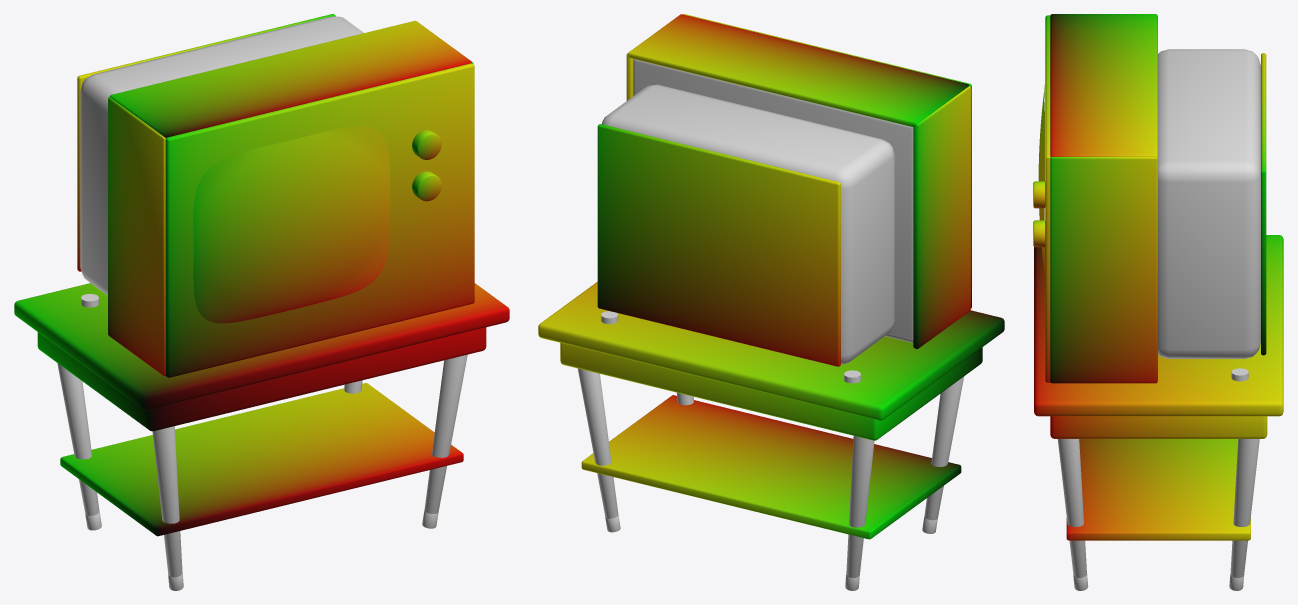
File: tv_painted.glb
3 renders of one model, left to right at view 1: azimuth 30°, elevation 25°; view 2: azimuth 150°, elevation 25°; view 3: azimuth 270°, elevation 25°, orthographic. The views are drawn at different scales.
Visible parts, largest first — view 1: tv_painted; view 2: tv_painted; view 3: tv_painted.
Part boxes in pixels (box(x1,y1,x2,y2)): tv_painted: box(14, 14, 509, 590); tv_painted: box(538, 14, 1004, 590); tv_painted: box(1033, 14, 1283, 590).
Bounding box in the file's own units: 0.74 × 0.9067 × 0.461.
